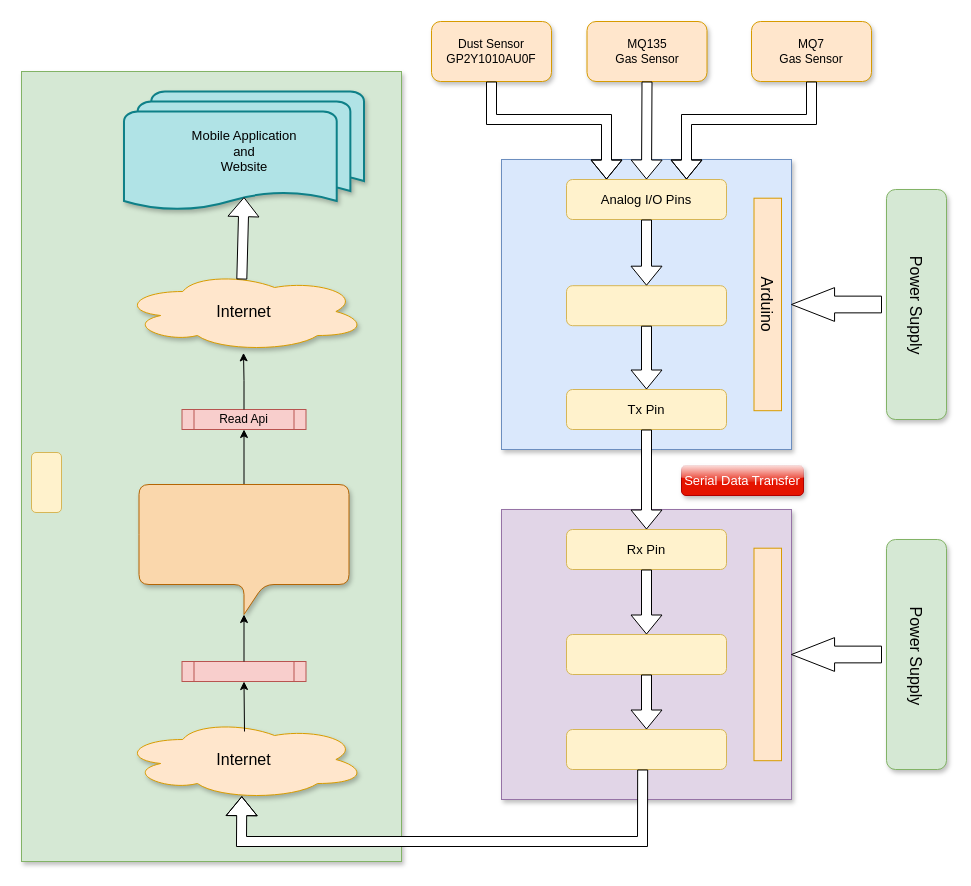
This 971x886 diagram has some shape labels left out. Each missing label, with the centre of its shape:
ADC: the point at 646,305
Esp8266 Wifi Module: the point at 767,654
IOT: the point at 46,482
Process Data: the point at 646,654
ThingSpeak Cloud: the point at 244,551
Wifi: the point at 646,749
Write Api: the point at 243,671
